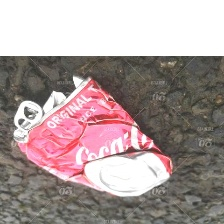can: (9, 69, 175, 200)
